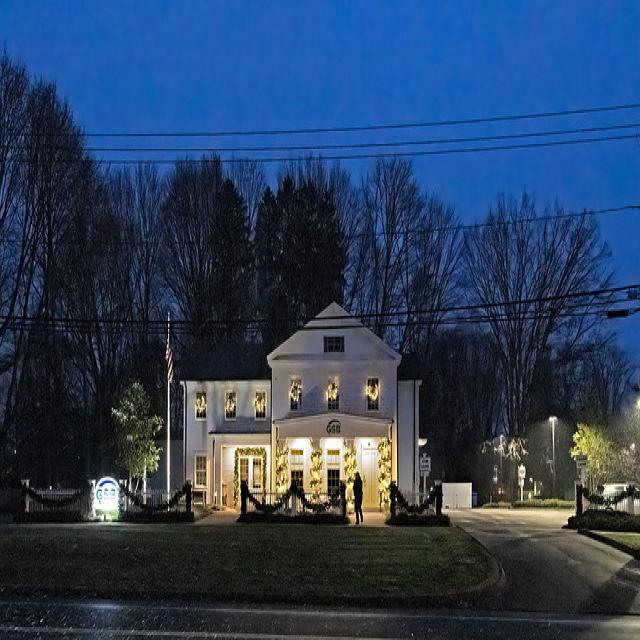Normal_building: (180, 302, 429, 520)
